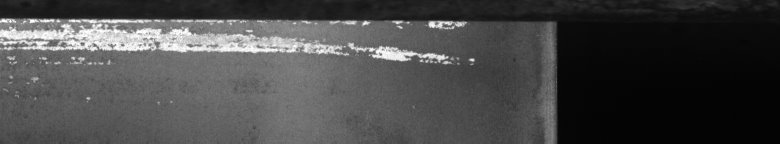kb: (4, 12, 544, 102)
